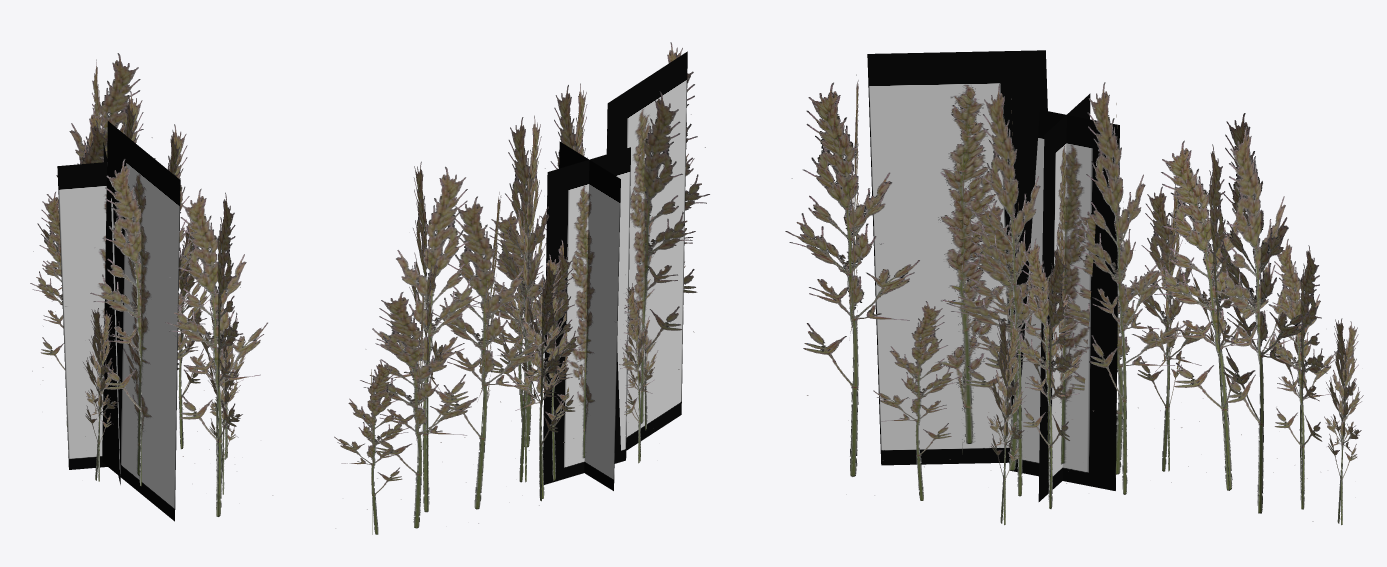
Rendered from PLANT-2.fbx.
3 views of the same model, side by side, from view 1: azimuth 30°, elevation 25°; view 2: azimuth 150°, elevation 25°; view 3: azimuth 270°, elevation 25° (orthographic). The views are drawn at different scales.
Visible parts, largest first — view 1: PLANT 2; view 2: PLANT 2; view 3: PLANT 2.
Part boxes in pixels (left/top/right/bottom): PLANT 2: left=30, top=53, right=273, bottom=521; PLANT 2: left=334, top=42, right=709, bottom=534; PLANT 2: left=785, top=50, right=1363, bottom=525.
Bounding box in the file's own units: 391 × 644 × 821.
2 materials, 2 textured.
